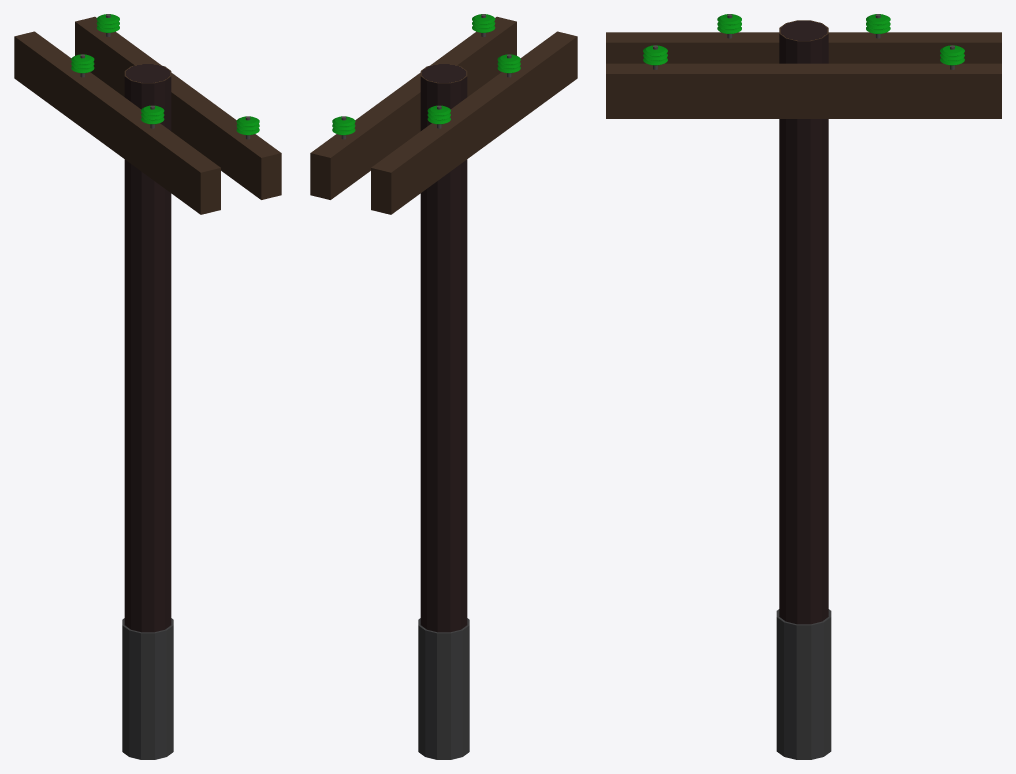
Rendered from PowerPole2.obj.
3 renders of one model, left to right at view 1: azimuth 30°, elevation 25°; view 2: azimuth 150°, elevation 25°; view 3: azimuth 270°, elevation 25°, orthographic. The views are drawn at different scales.
Visible parts, largest first — view 1: Pole, Brace, torus; view 2: Pole, Brace, torus; view 3: Pole, Brace, torus.
Part boxes in pixels (box(x1,y1,x2,y2)): Pole: box(122, 63, 173, 759); Brace: box(14, 16, 281, 214); torus: box(71, 14, 259, 135); Pole: box(418, 63, 469, 759); Brace: box(310, 16, 577, 214); torus: box(332, 14, 520, 135); Pole: box(776, 20, 831, 759); Brace: box(606, 32, 1001, 118); torus: box(643, 14, 964, 65).
Bounding box in the file's own units: 0.25 × 2 × 1.
